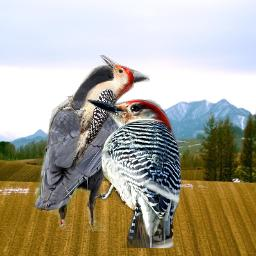Crow: (32, 65, 150, 231)
Woodpecker: (81, 91, 187, 248), (58, 55, 136, 171)
